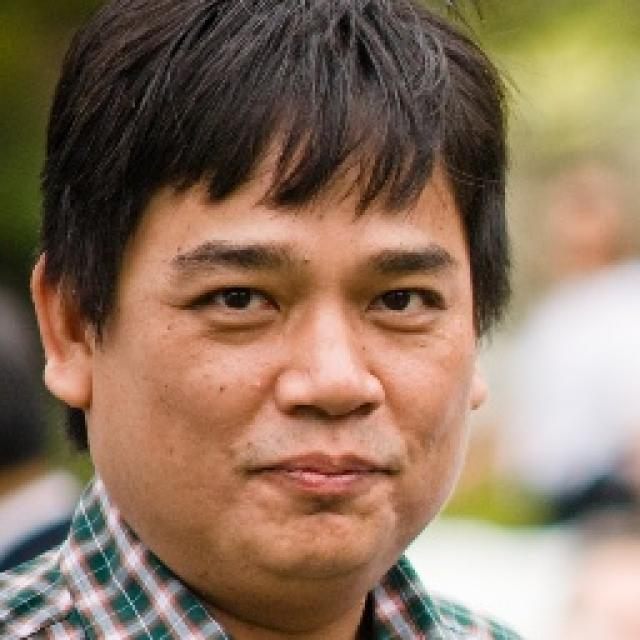earlobe: (42, 343, 96, 411)
eye: (362, 284, 443, 319), (195, 285, 282, 316)
nose: (275, 397, 380, 450)
wholeear: (29, 250, 96, 411)
